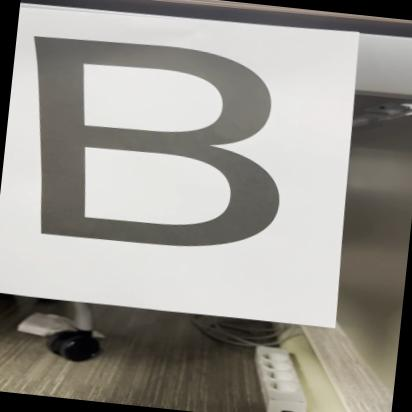seat: (0, 18, 312, 269)
